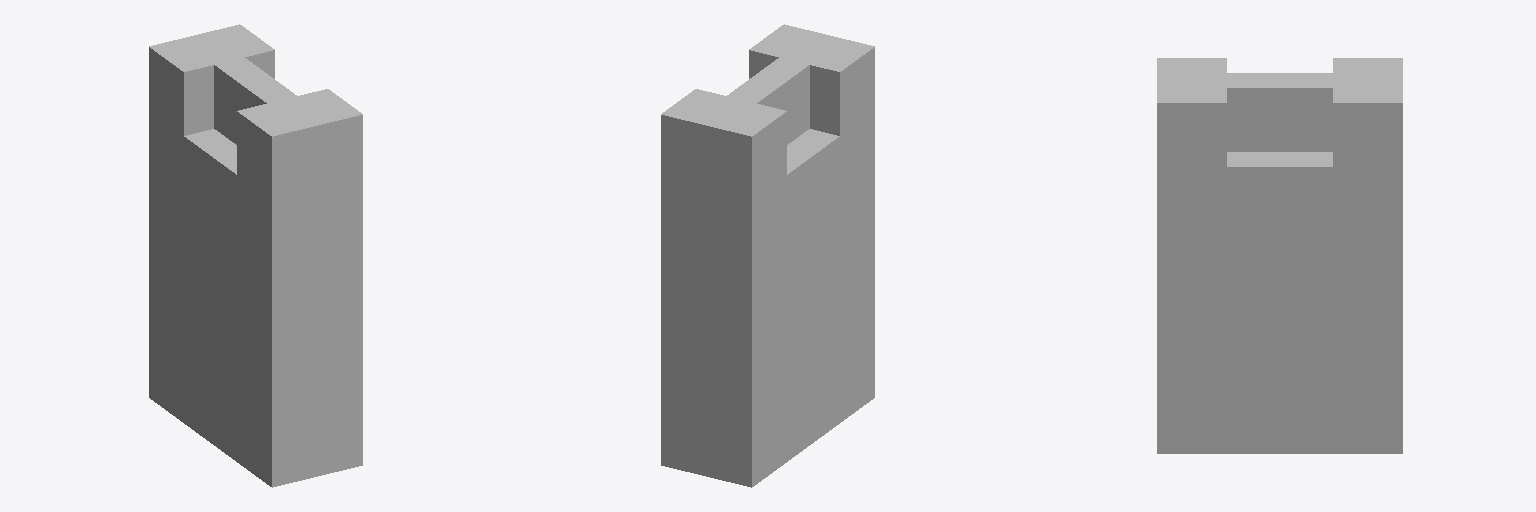
File: LaserDoor Red.obj
3 renders of one model, left to right at view 1: azimuth 30°, elevation 25°; view 2: azimuth 150°, elevation 25°; view 3: azimuth 270°, elevation 25°, orthographic.
Bounding box in the file's own units: 3 × 11 × 7.